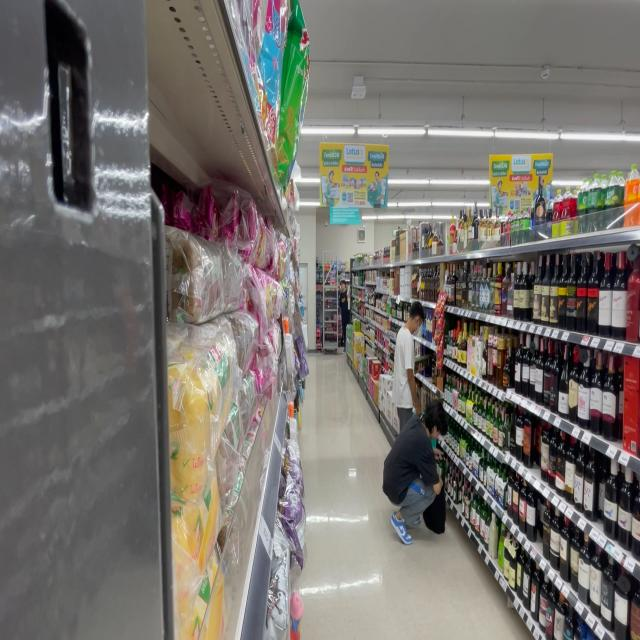shoplifting: (383, 399, 444, 547)
